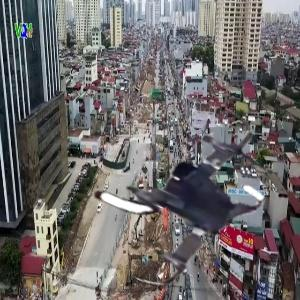drone: (73, 86, 282, 295)
